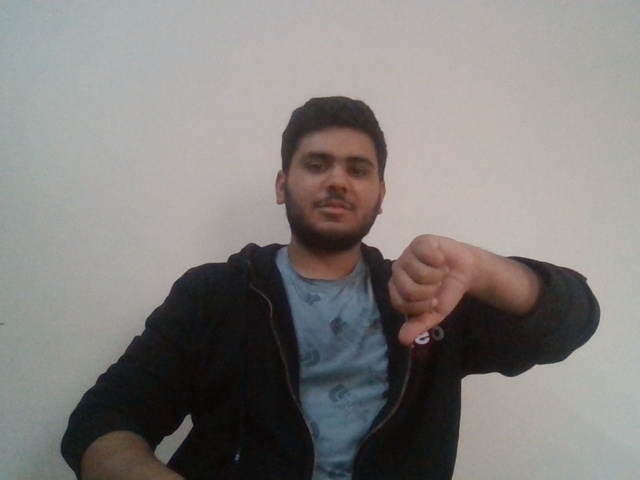No: (379, 229, 475, 352)
